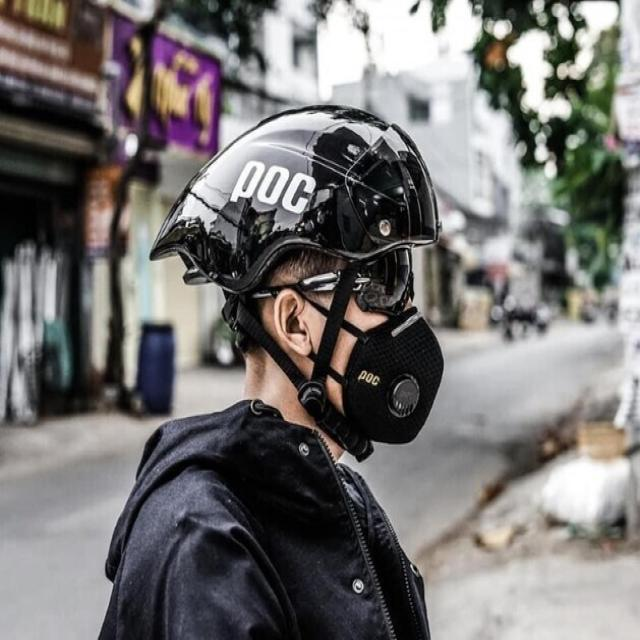helmet: (150, 103, 440, 294)
